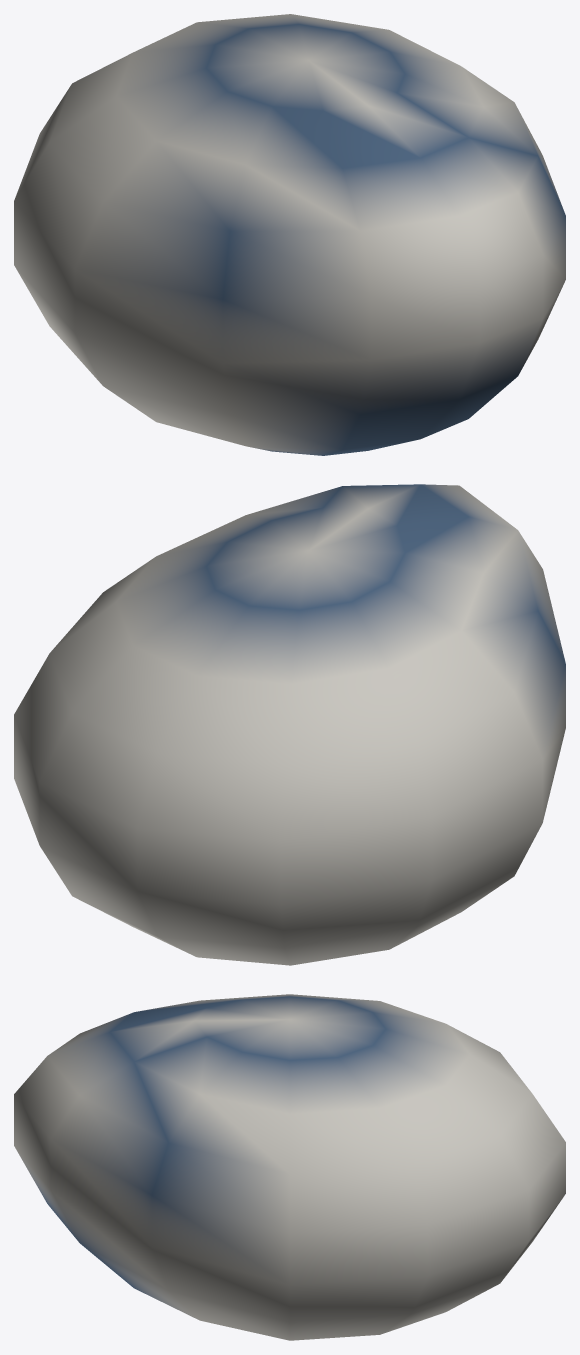
File: wear_stripes.glb
3 views of the same model, one above another, from view 1: azimuth 30°, elevation 25°; view 2: azimuth 150°, elevation 25°; view 3: azimuth 270°, elevation 25° (orthographic). The views are drawn at different scales.
Visible parts, largest first — view 1: Item; view 2: Item; view 3: Item.
Part boxes in pixels (bbox=[...]): Item: bbox=[14, 14, 565, 455]; Item: bbox=[14, 484, 565, 965]; Item: bbox=[14, 994, 565, 1340].
Size of the model in its own units: 0.6691 by 0.5018 by 0.8489.
